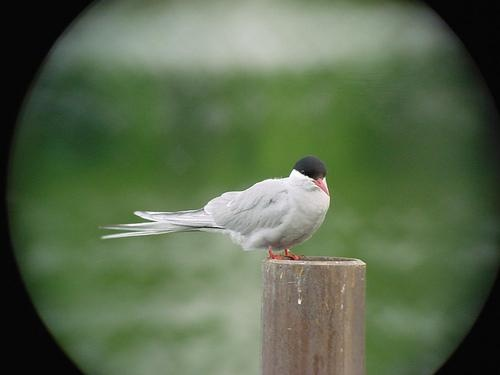bird: (97, 153, 334, 259)
